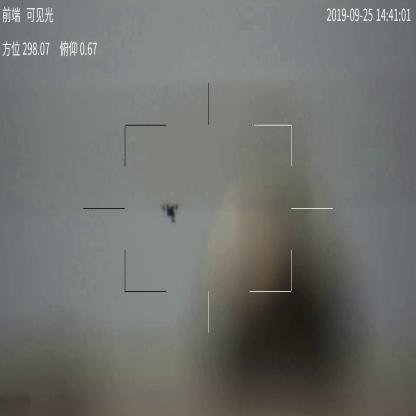uav: (162, 200, 181, 222)
